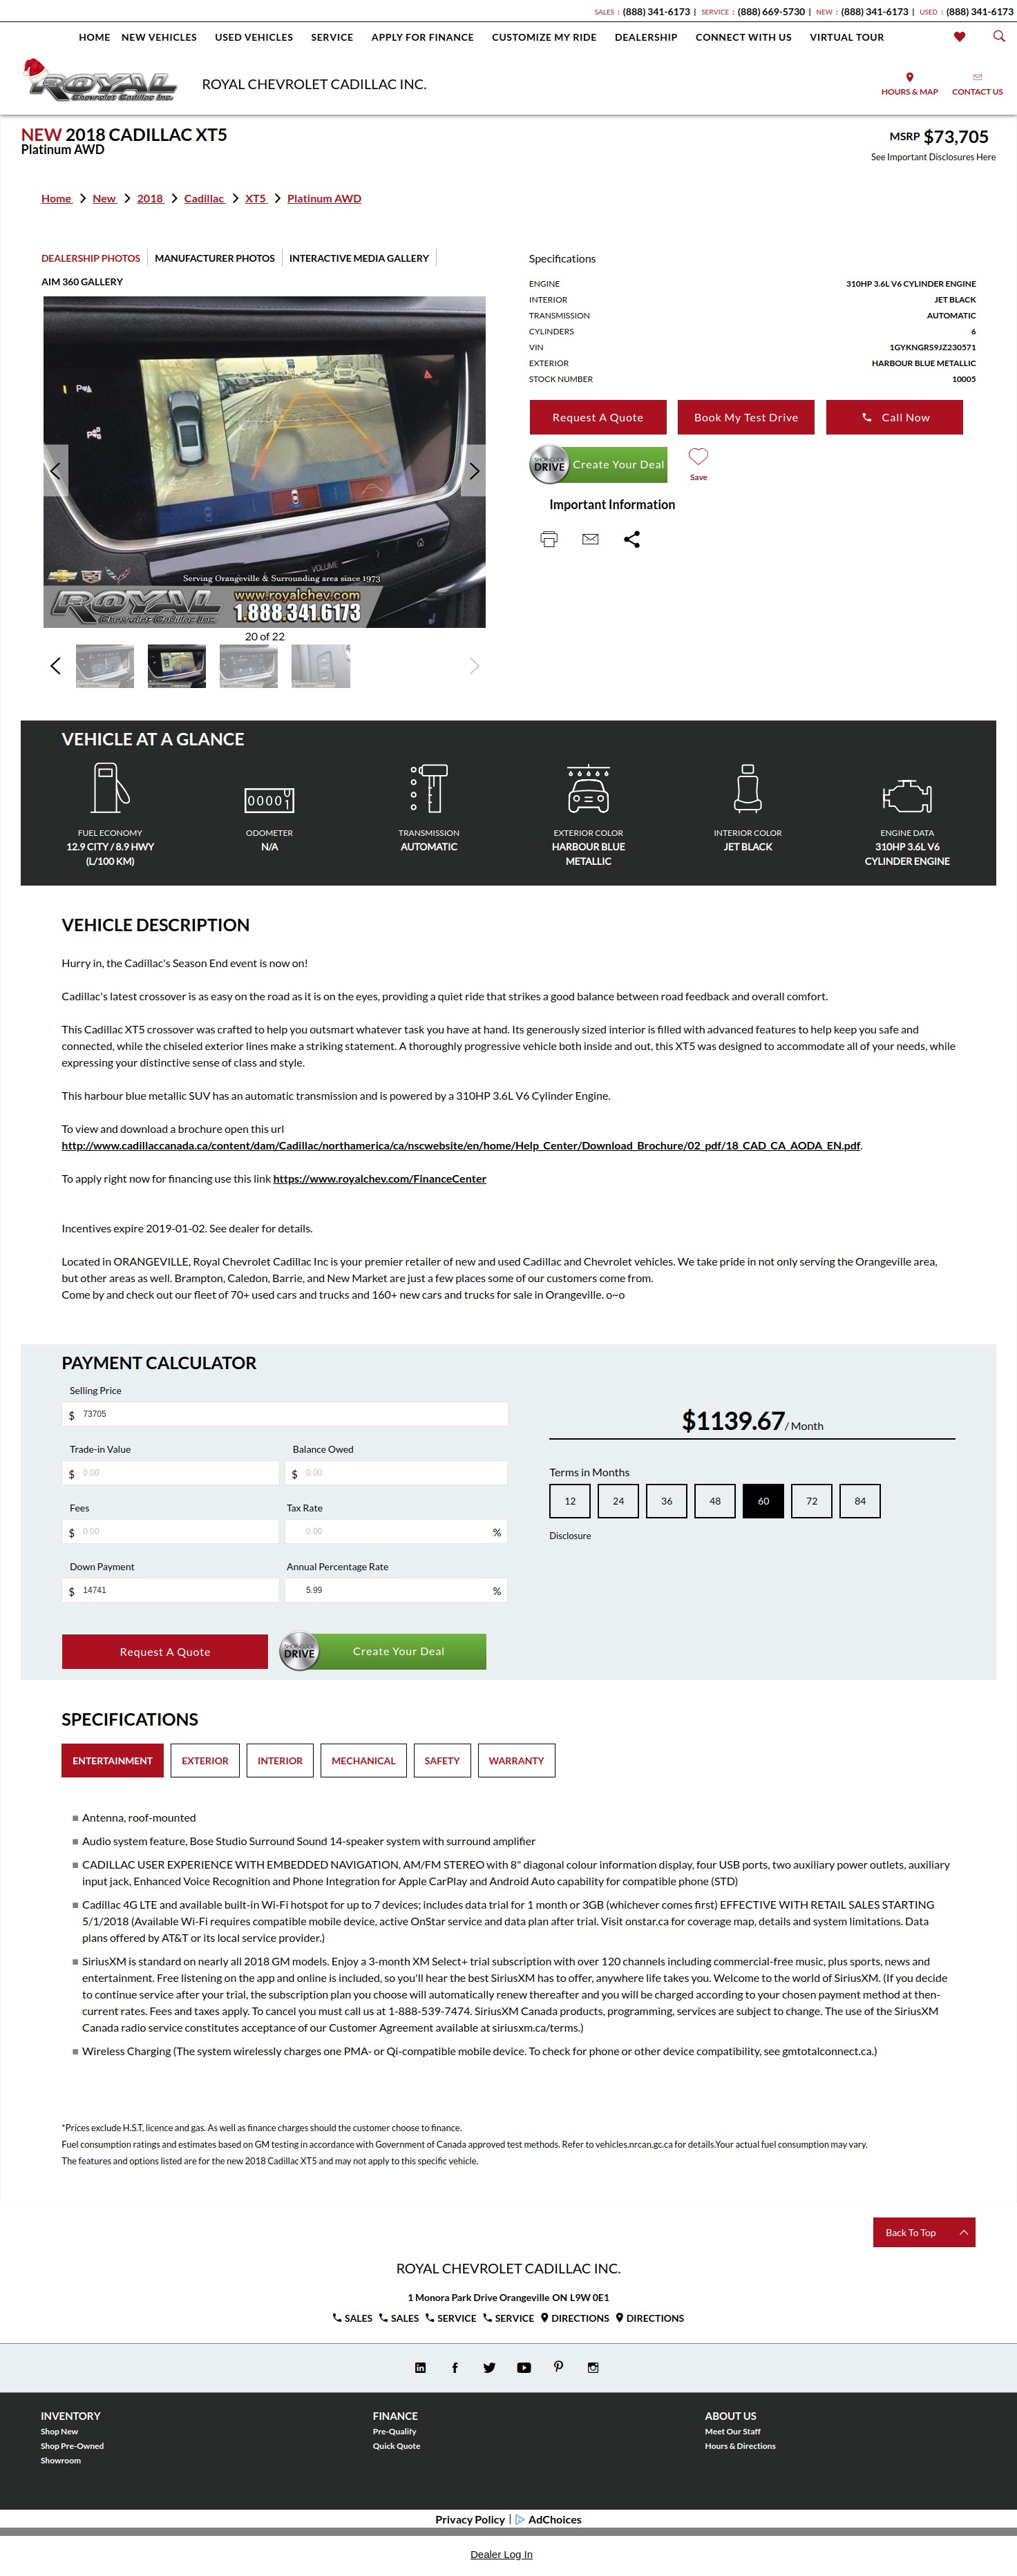car: (470, 657, 481, 675)
